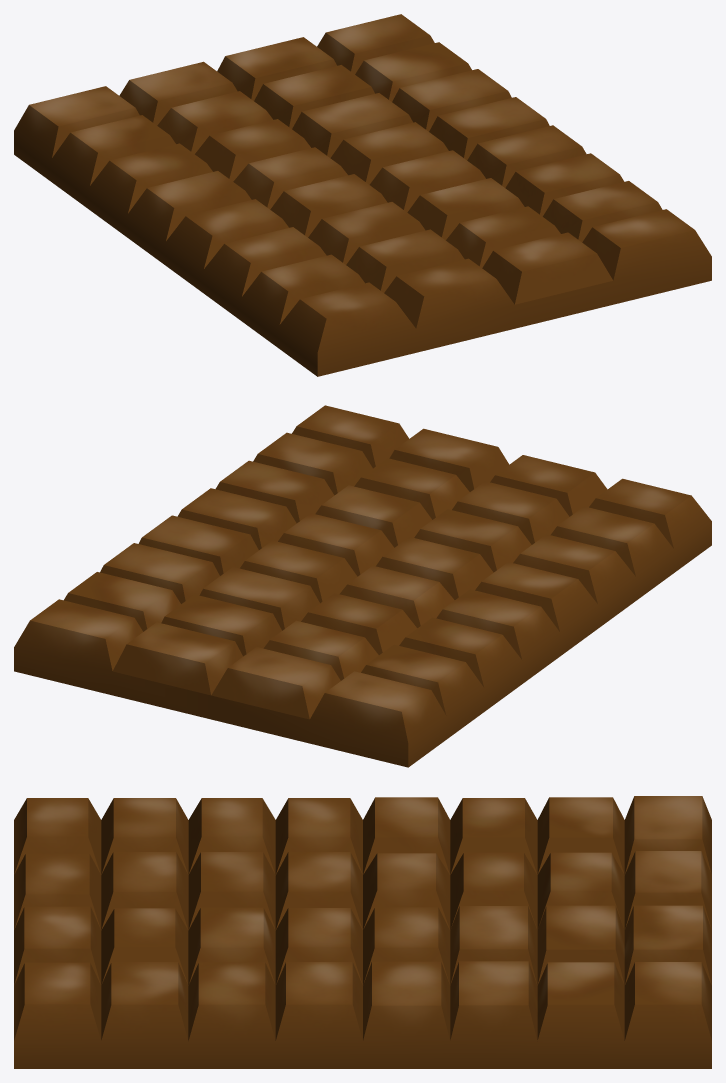
The model's file is Enemy4.fbx.
The picture shows the model from 3 angles, top to bottom: view 1: azimuth 30°, elevation 25°; view 2: azimuth 150°, elevation 25°; view 3: azimuth 270°, elevation 25°; orthographic projection. The views are drawn at different scales.
Parts seen in each view (by area): view 1: pCube1; view 2: pCube1; view 3: pCube1.
Part boxes in pixels (x1=…): pCube1: x1=14, y1=14, x2=711, y2=376; pCube1: x1=14, y1=405, x2=711, y2=767; pCube1: x1=14, y1=796, x2=711, y2=1068.
Bounding box in the file's own units: 150 × 18.59 × 200.
Materials: 1 (1 with a texture image).
